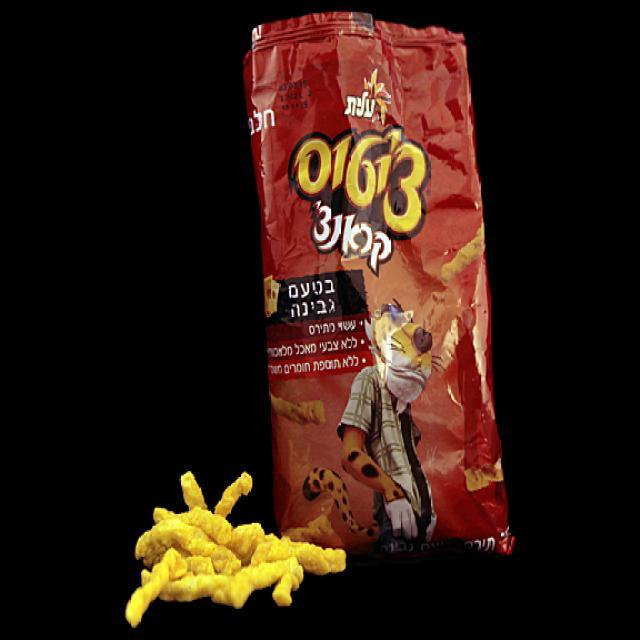Chips: (229, 25, 533, 576)
Chips packaged: (104, 449, 356, 624)
